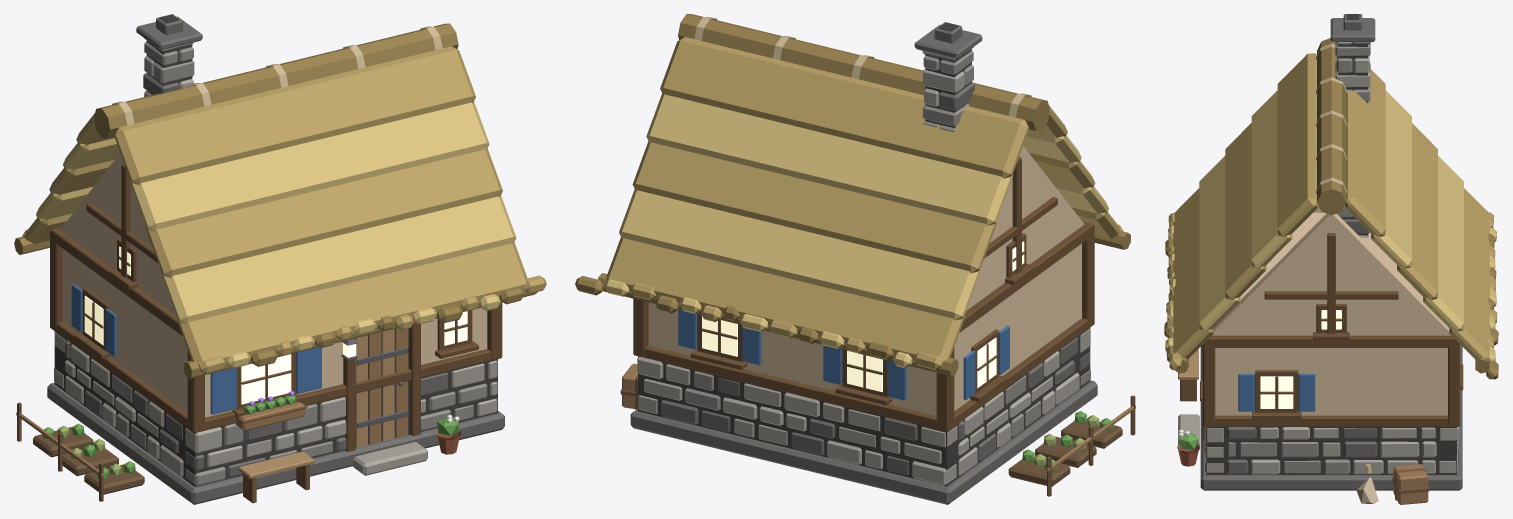
The model's file is house_b.glb.
3 renders of one model, left to right at view 1: azimuth 30°, elevation 25°; view 2: azimuth 150°, elevation 25°; view 3: azimuth 270°, elevation 25°, orthographic. The views are drawn at different scales.
Parts seen in each view (by area): view 1: HouseB; view 2: HouseB; view 3: HouseB.
Boxes of the visible parts, left/top/right/bottom form: HouseB: left=14, top=14, right=546, bottom=504; HouseB: left=575, top=14, right=1135, bottom=504; HouseB: left=1164, top=14, right=1498, bottom=504.
Size of the model in its own units: 6.96 by 6.63 by 5.49.
